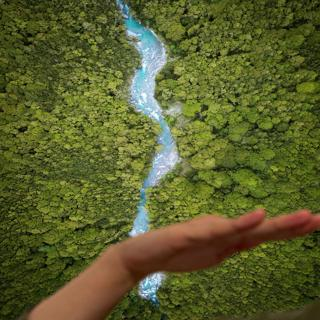WAIT: (118, 201, 320, 276)
